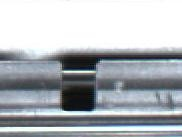oneu: (52, 54, 105, 116)
